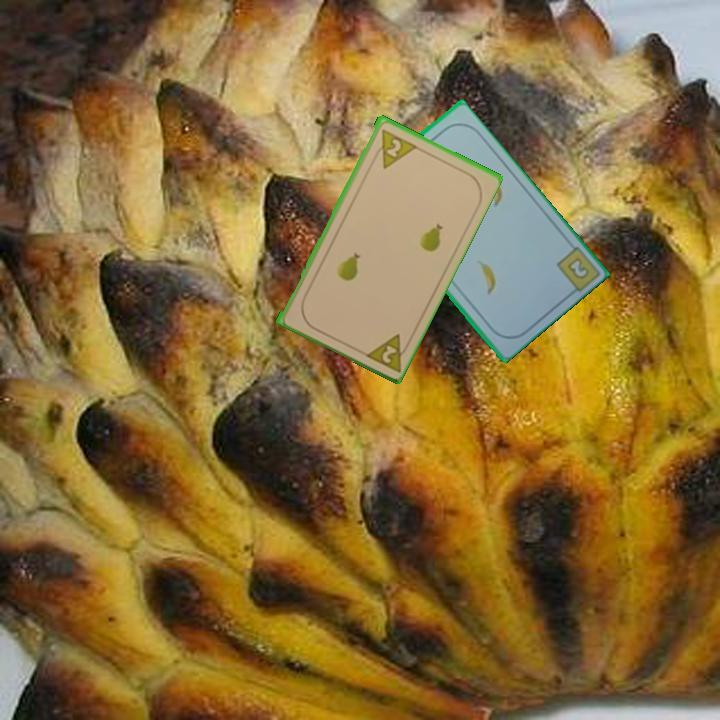2b: (564, 254, 592, 282)
2p: (360, 329, 414, 375), (369, 125, 418, 171)
